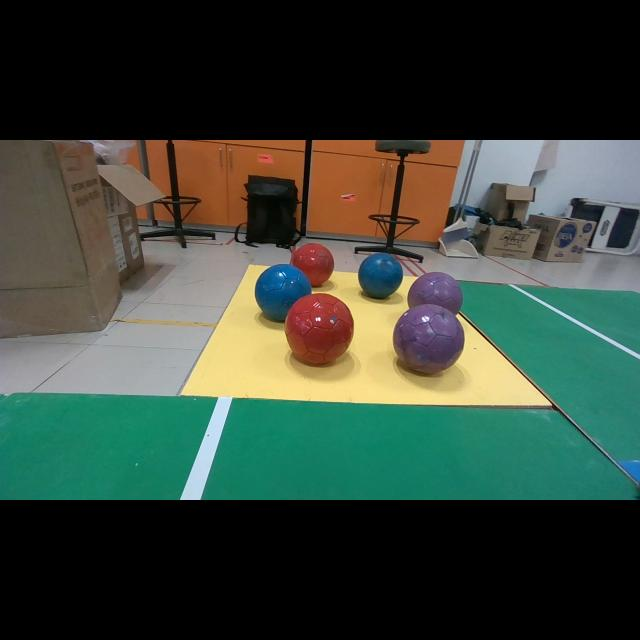B: (255, 264, 311, 321), (358, 252, 402, 299)
P: (392, 305, 465, 373), (408, 272, 462, 314)
R: (285, 294, 354, 364), (291, 242, 334, 286)
